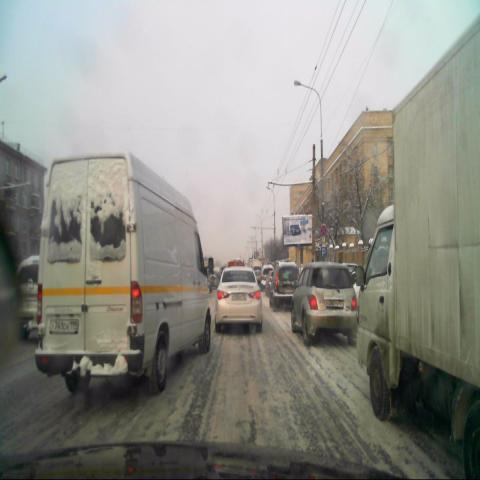3_27: (318, 223, 327, 236)
6_4: (320, 246, 328, 260)
